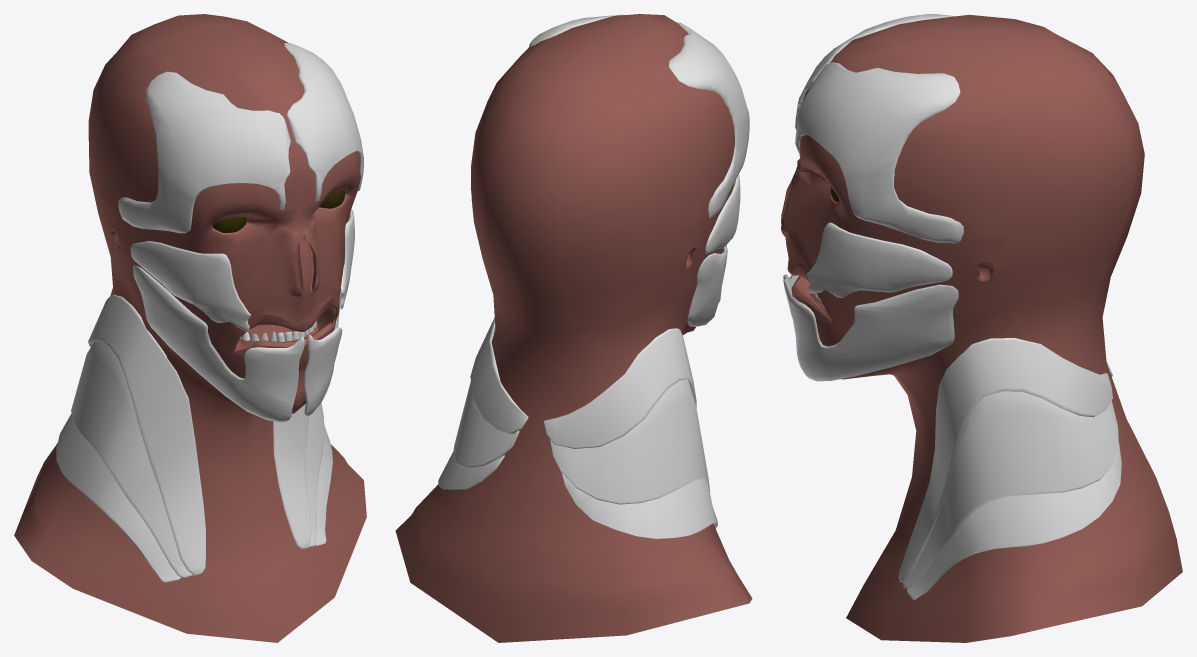
Rendered from MuscleBust.fbx.
3 views of the same model, side by side, from view 1: azimuth 30°, elevation 25°; view 2: azimuth 150°, elevation 25°; view 3: azimuth 270°, elevation 25° (orthographic). The views are drawn at different scales.
Parts seen in each view (by area): view 1: Headface, Forehead_R, TopGil_R, MiddleGil_R, Jaw_R, Forehead_L, Cheek_R, BottomGil_R, TopGil_L, Jaw_L, MiddleGil_L, BottomGil_L1 (+1 smaller); view 2: Headface, MiddleGil_R, TopGil_R, BottomGil_R, Forehead_R, TopGil_L, MiddleGil_L, Jaw_R, Cheek_R, BottomGil_L1, Forehead_L; view 3: Headface, MiddleGil_L, Forehead_L, TopGil_L, Jaw_L, BottomGil_L1, Cheek_L, Forehead_R.
Boxes of the visible parts, box(x1,y1,x2,y2) form: Headface: box(14, 14, 366, 642); Forehead_R: box(118, 71, 290, 233); TopGil_R: box(88, 294, 205, 575); MiddleGil_R: box(71, 341, 193, 577); Jaw_R: box(133, 264, 304, 422); Forehead_L: box(284, 43, 363, 202); Cheek_R: box(130, 241, 250, 331); BottomGil_R: box(56, 414, 180, 582); TopGil_L: box(273, 404, 311, 548); Jaw_L: box(303, 289, 342, 416); MiddleGil_L: box(305, 403, 324, 546); BottomGil_L1: box(316, 425, 332, 545); Headface: box(395, 14, 752, 642); MiddleGil_R: box(550, 379, 709, 504); TopGil_R: box(543, 328, 696, 448); BottomGil_R: box(562, 473, 717, 538); Forehead_R: box(669, 22, 749, 218); TopGil_L: box(470, 318, 528, 434); MiddleGil_L: box(453, 336, 519, 468); Jaw_R: box(687, 245, 727, 326); Cheek_R: box(705, 174, 740, 253); BottomGil_L1: box(438, 451, 504, 489); Forehead_L: box(529, 14, 624, 47); Headface: box(781, 14, 1182, 642); MiddleGil_L: box(902, 391, 1118, 588); Forehead_L: box(795, 62, 963, 243); TopGil_L: box(898, 338, 1112, 582); Jaw_L: box(783, 278, 958, 381); BottomGil_L1: box(907, 442, 1121, 599); Cheek_L: box(806, 222, 952, 297); Forehead_R: box(795, 14, 954, 129).
Bounding box in the file's own units: 8.18 × 13.26 × 8.22.
